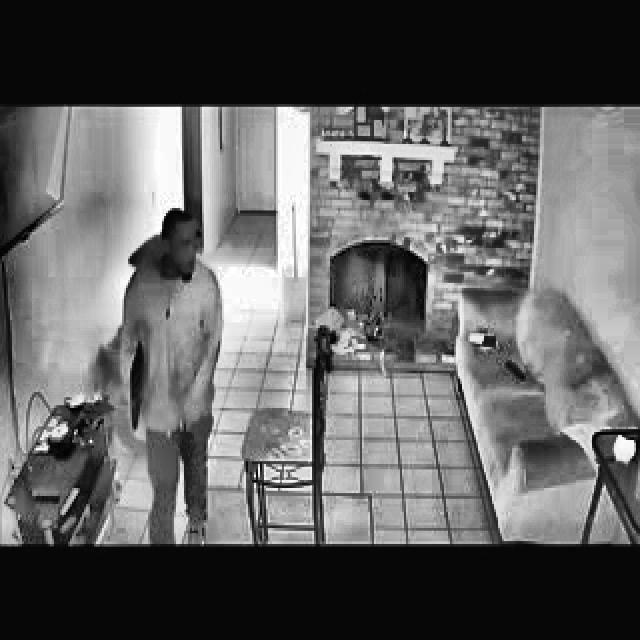burglary: (116, 204, 230, 544)
